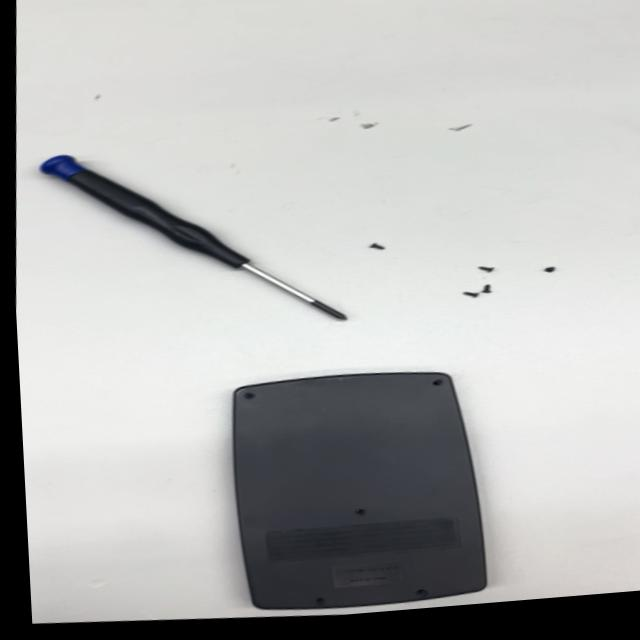back_cover: (211, 352, 504, 624)
screw: (470, 260, 502, 278), (366, 237, 391, 255), (453, 289, 483, 304), (542, 263, 562, 279), (482, 282, 496, 296)
screw_driver: (26, 125, 360, 349)
